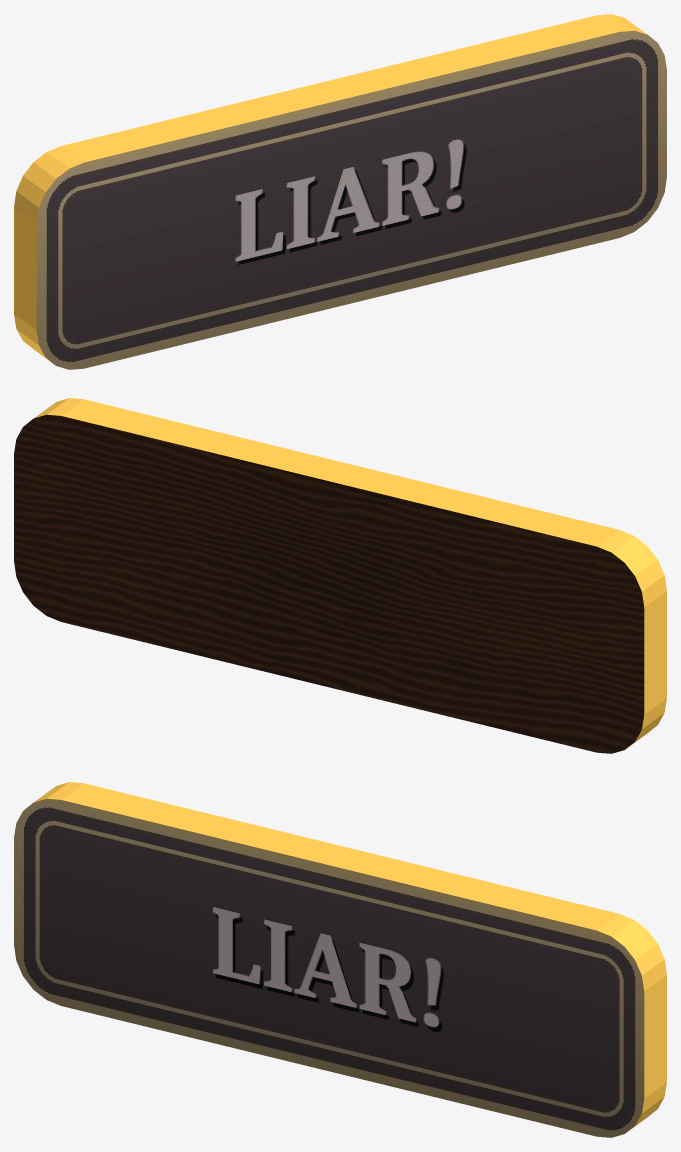
Rendered from lb4_btn_liar_off.glb.
3 views of the same model, one above another, from view 1: azimuth 30°, elevation 25°; view 2: azimuth 150°, elevation 25°; view 3: azimuth 330°, elevation 25° (orthographic).
Visible parts, largest first — view 1: lb4_btn_liar_off; view 2: lb4_btn_liar_off; view 3: lb4_btn_liar_off.
Part boxes in pixels (<box>): lb4_btn_liar_off: <box>14,14,666,369</box>; lb4_btn_liar_off: <box>14,398,666,753</box>; lb4_btn_liar_off: <box>14,782,666,1137</box>.
Bounding box in the file's own units: 0.8 × 0.25 × 0.05.
Materials: 3 (2 with a texture image).
